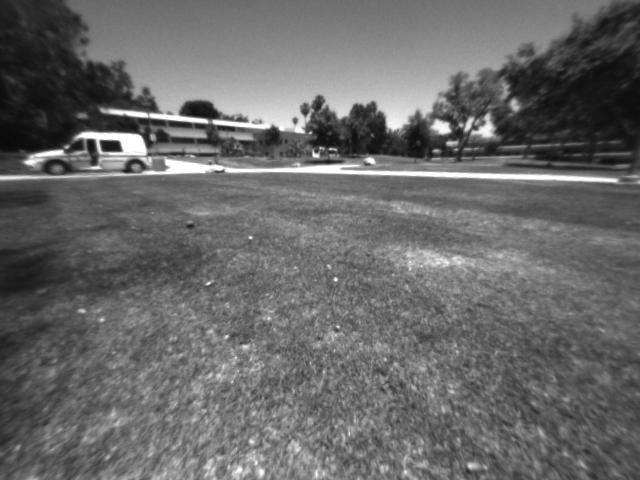dogtoy: (180, 211, 203, 234)
